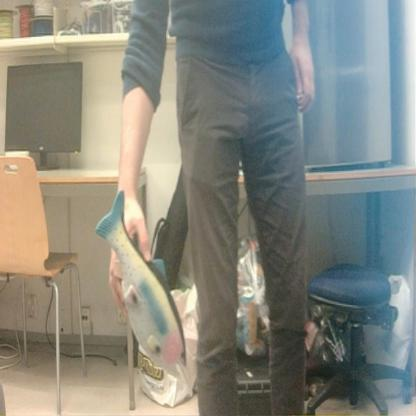rubberfish: (93, 179, 189, 374)
